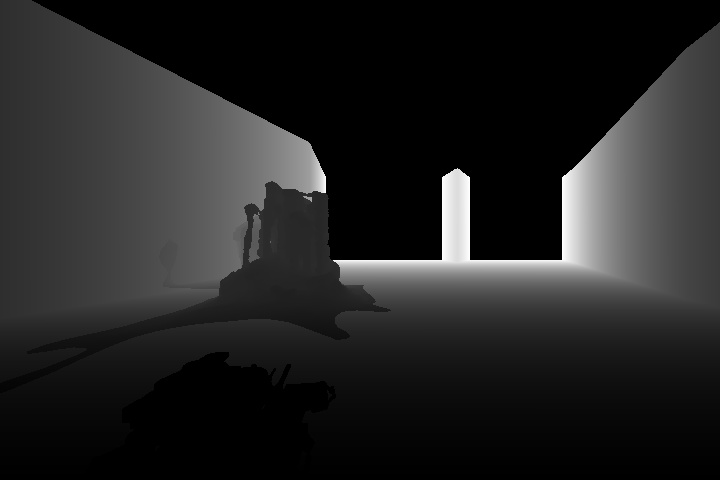green rock: (149, 178, 394, 342)
